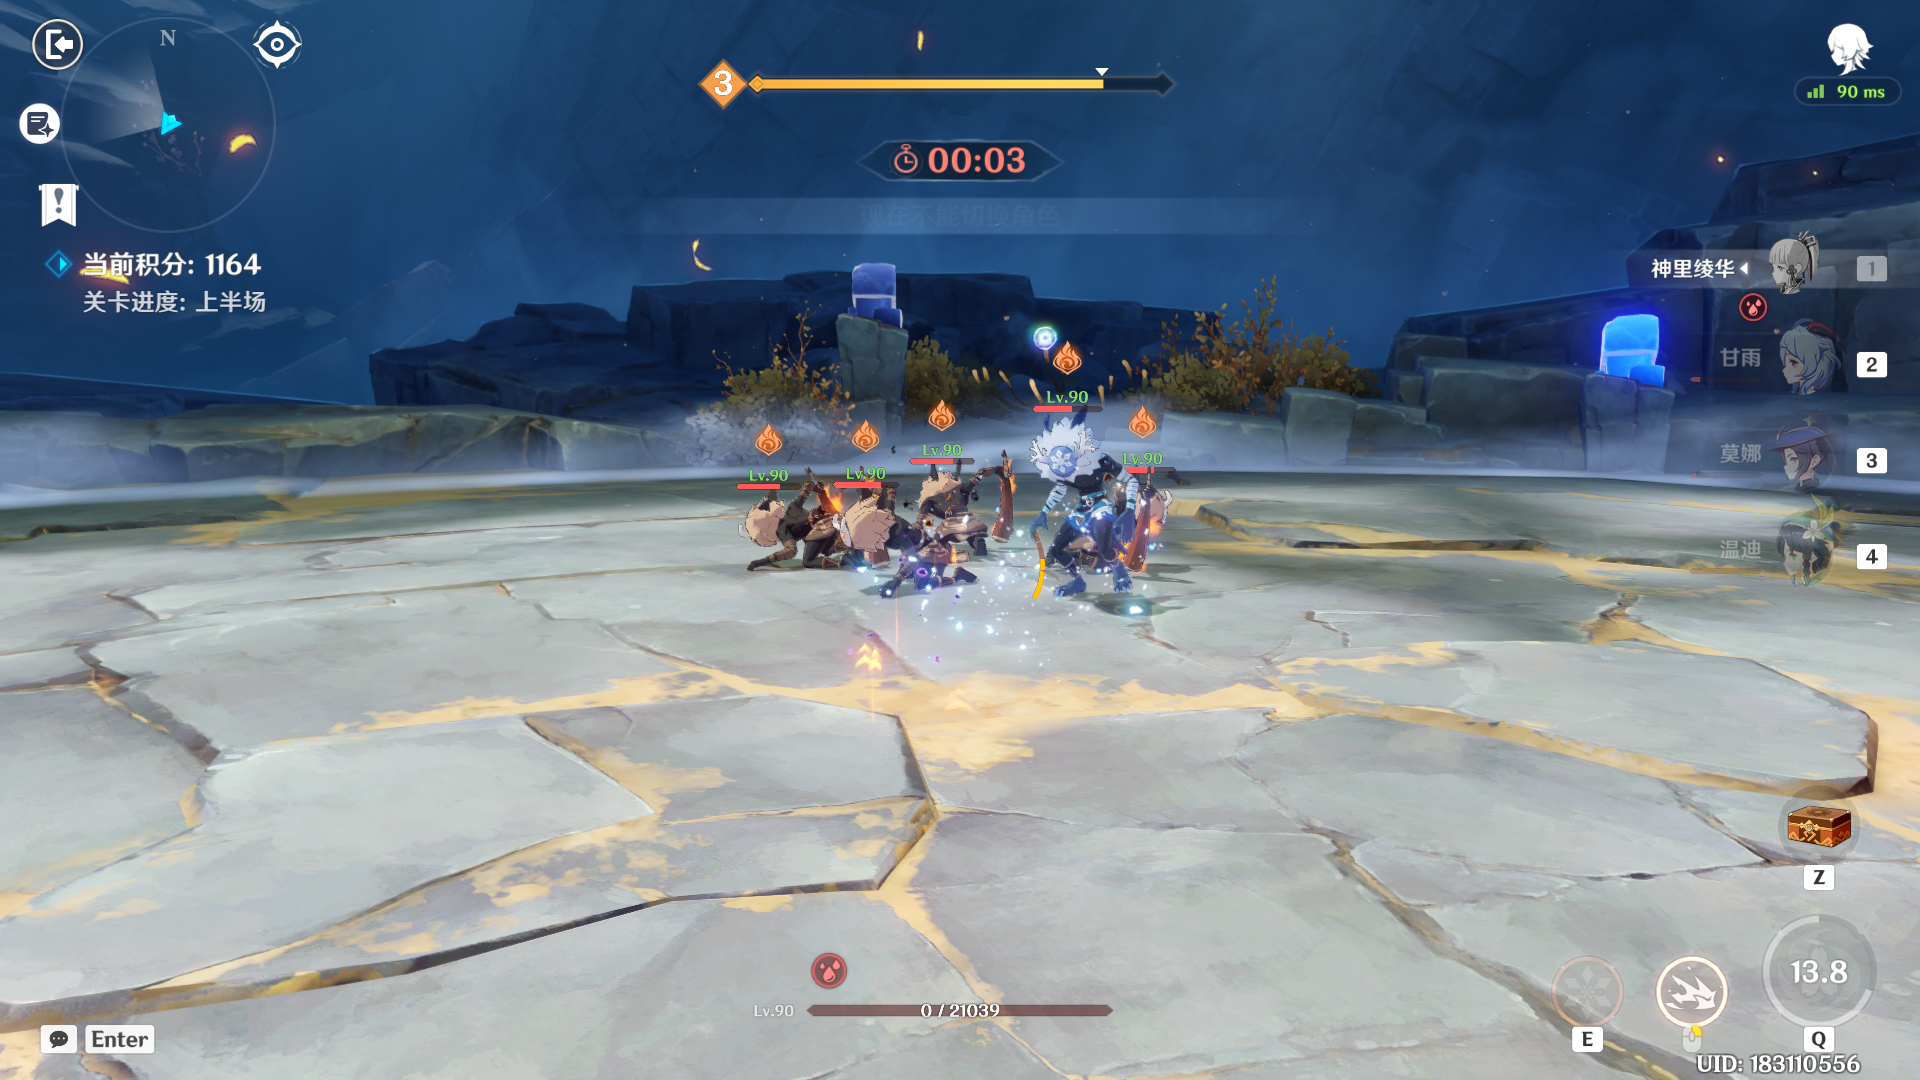hili: (1025, 400, 1162, 632), (829, 456, 963, 611), (887, 429, 1030, 571), (725, 484, 855, 597)
